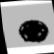correct: (14, 17, 52, 45)
